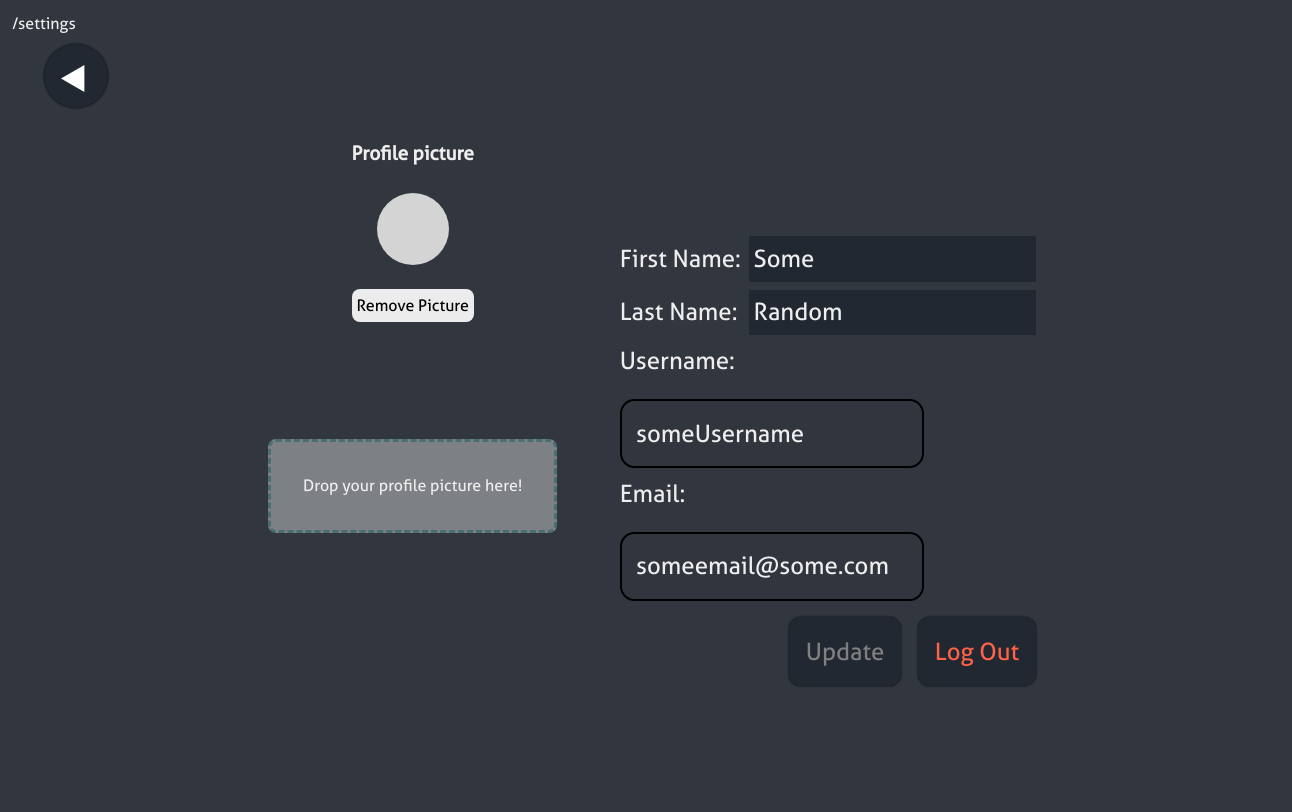
Test: <Settings> › disables update button after successful update
Click the field named "Username input" at x=772, y=434, box [620, 399, 924, 468]
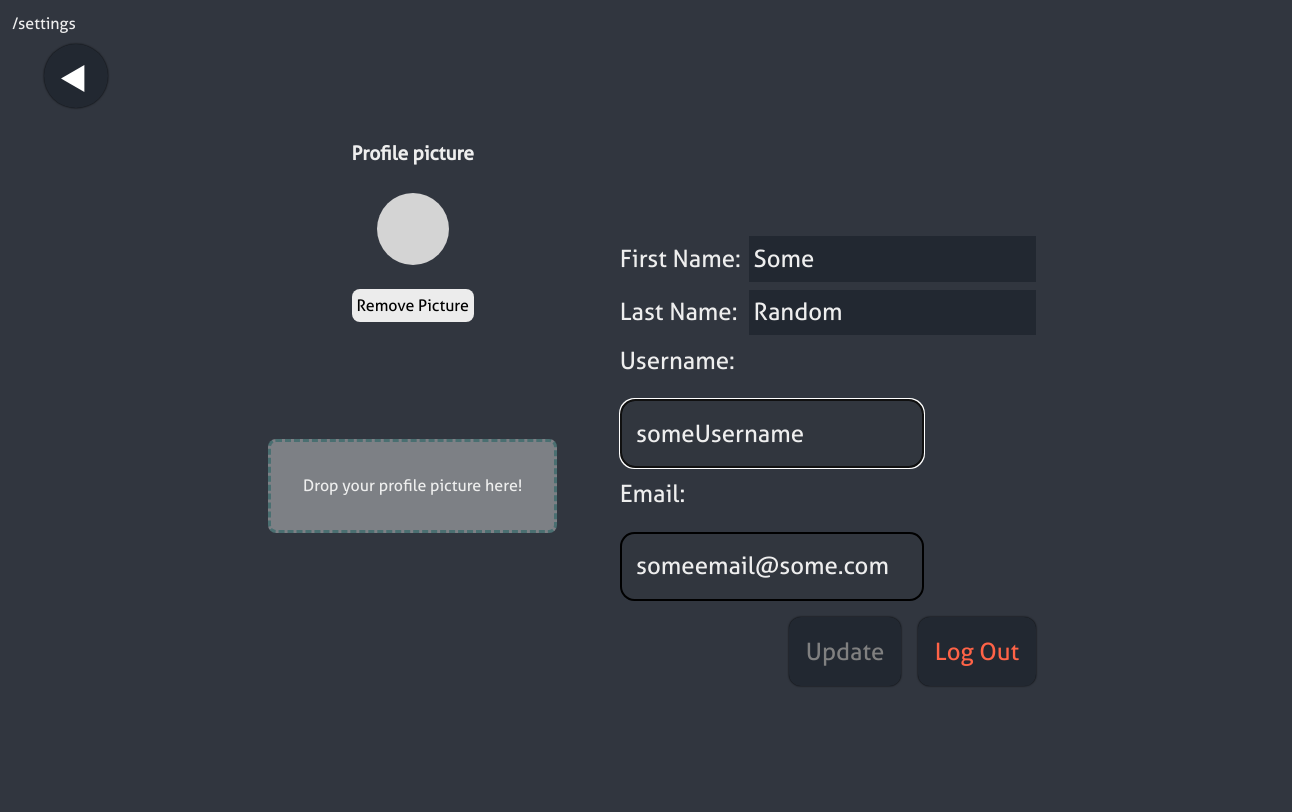
Type keys "changed"
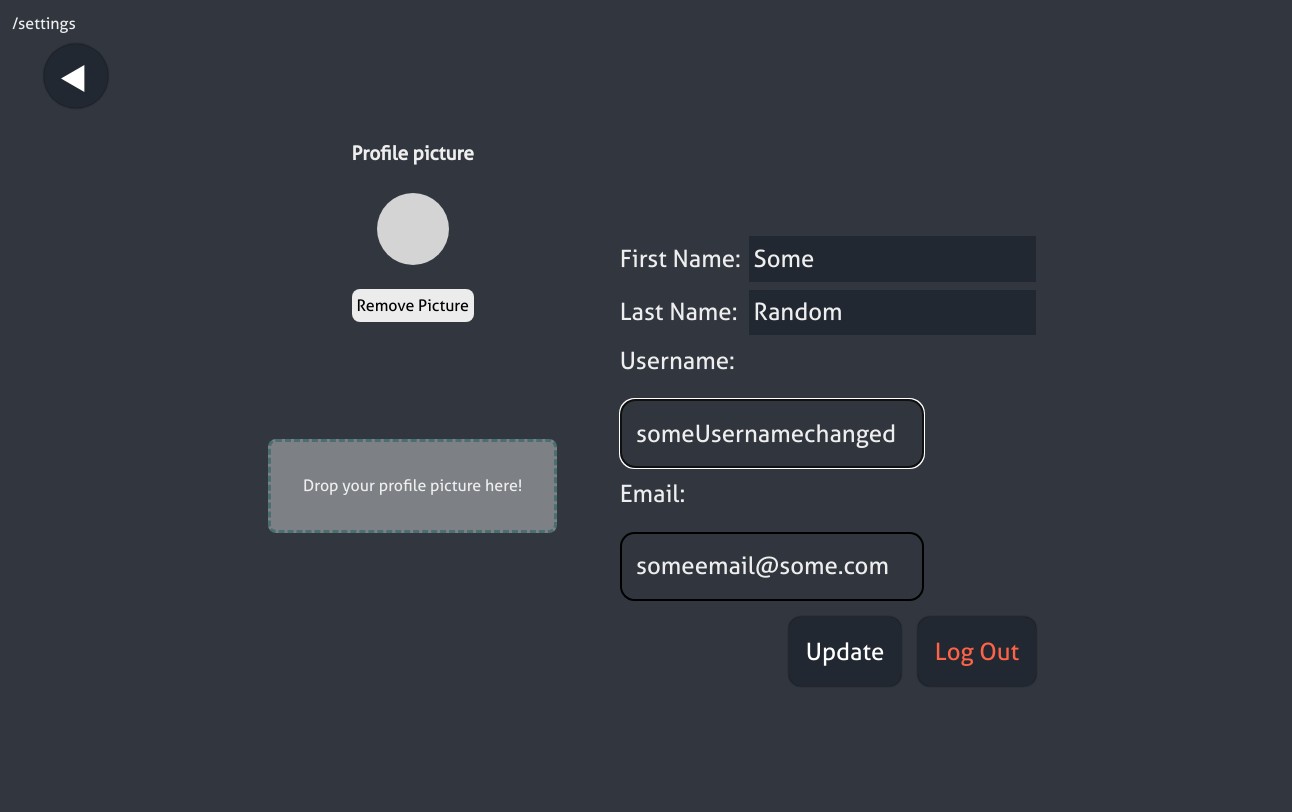
Click the field named "Email input" at x=772, y=566, box [620, 532, 924, 601]
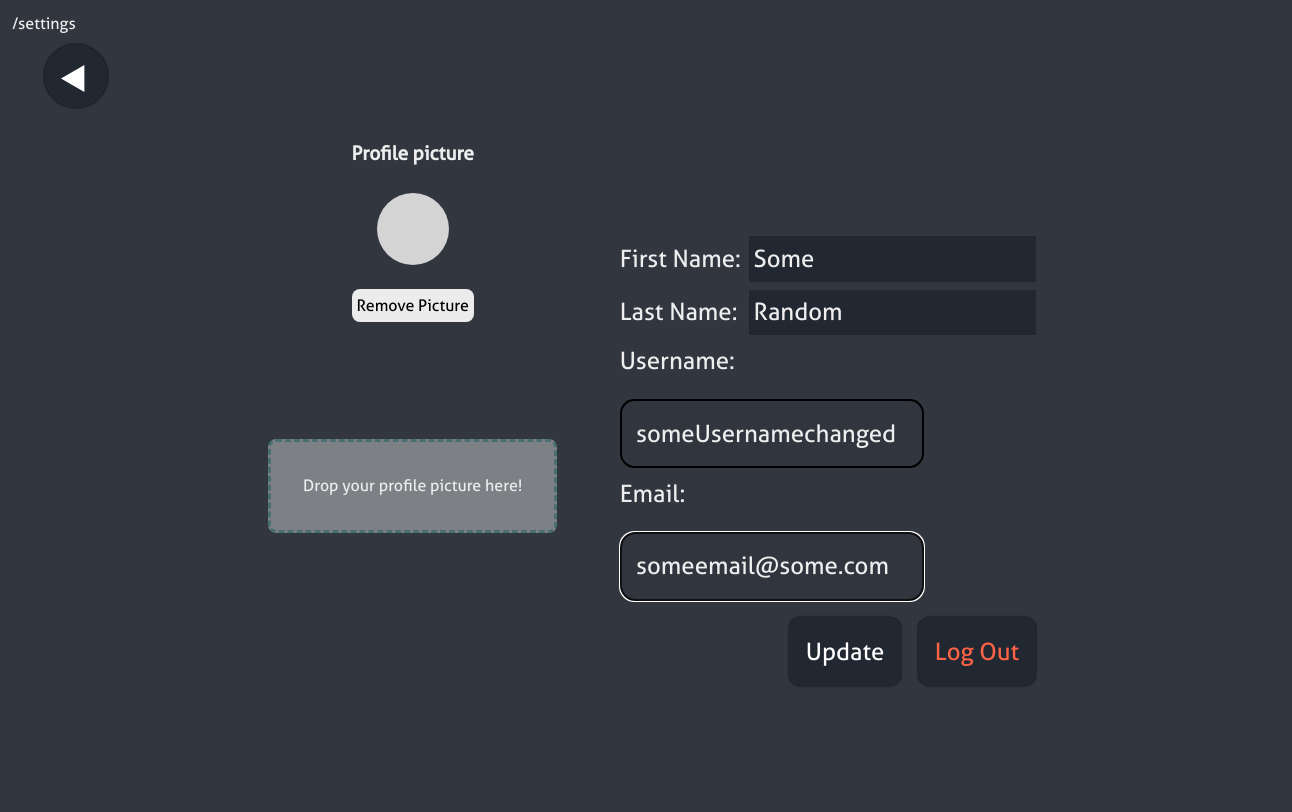
Type keys "changed"
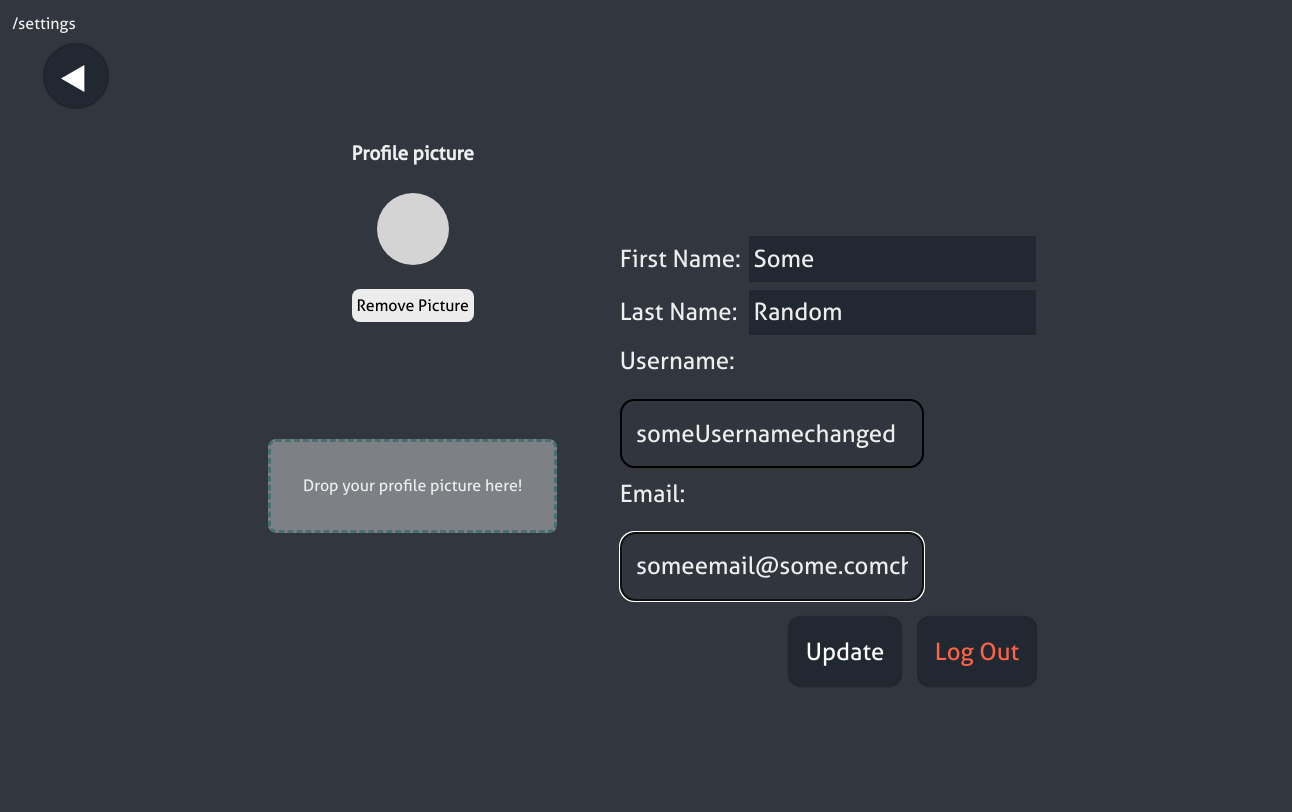
Click the button "Update" at x=845, y=652, box [789, 617, 901, 686]
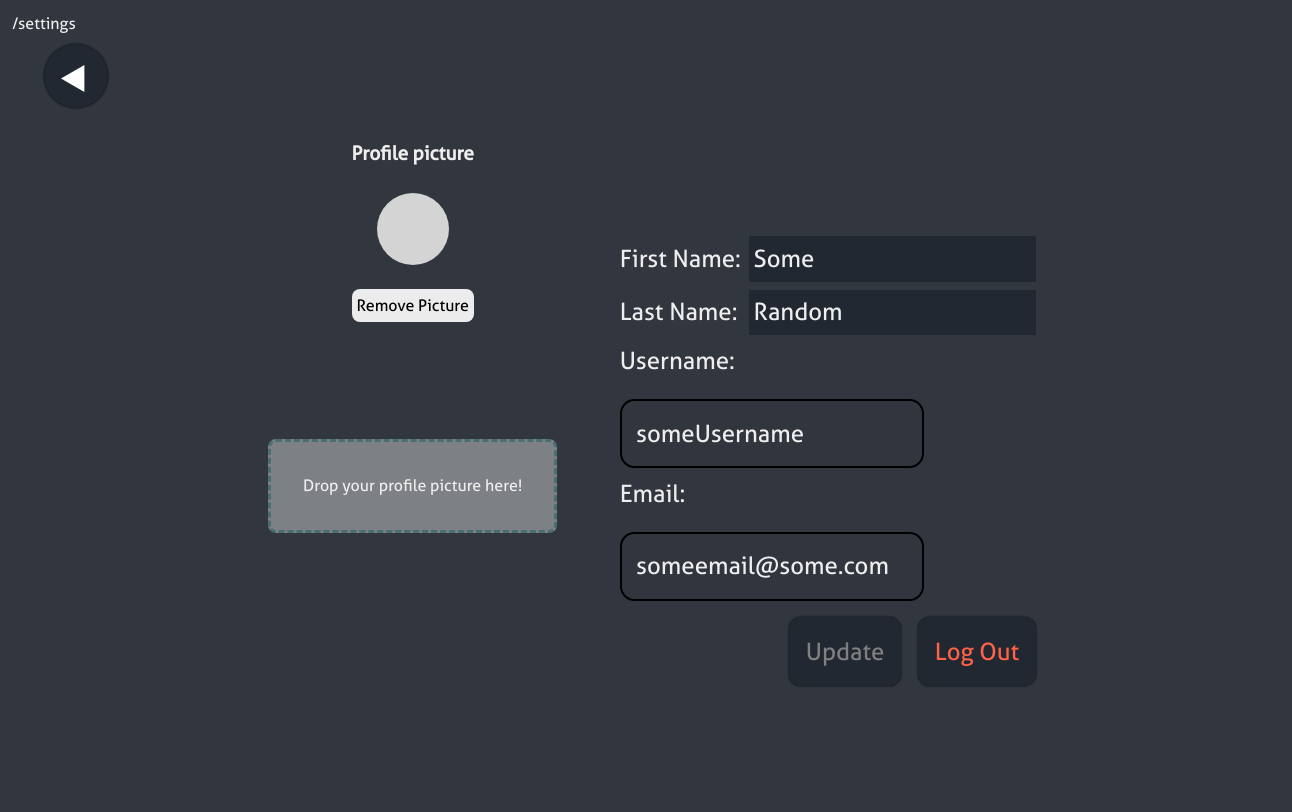
Result: the button "Update" is disabled at [789, 617, 901, 686]
